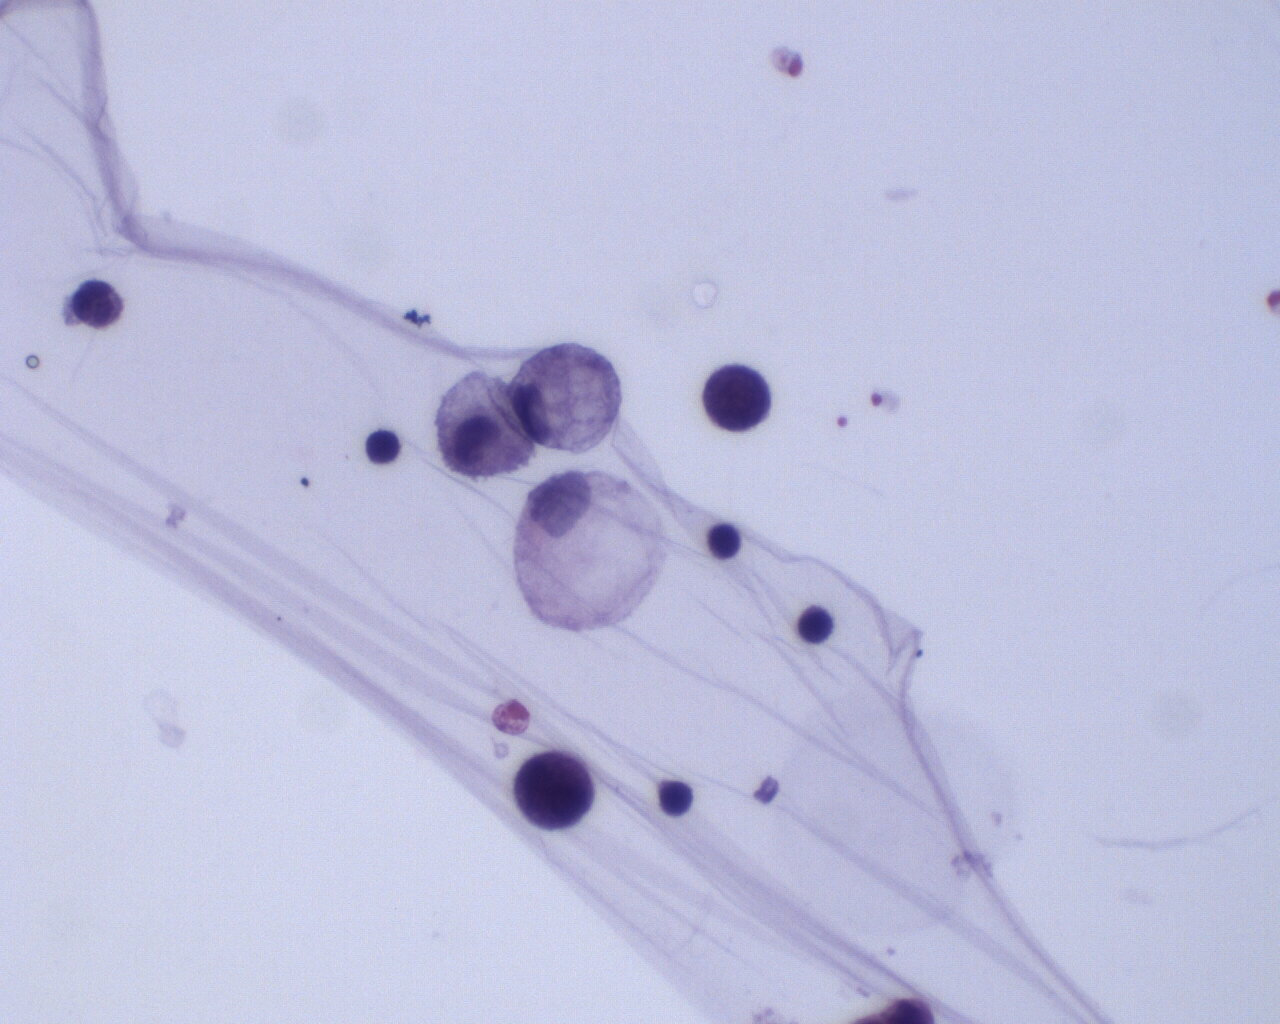ab: (513, 745, 597, 830), (699, 358, 778, 439)
histo: (513, 466, 667, 635), (510, 339, 624, 453)
lymph: (647, 772, 695, 820), (793, 599, 837, 649), (706, 516, 748, 563), (363, 425, 408, 467)
